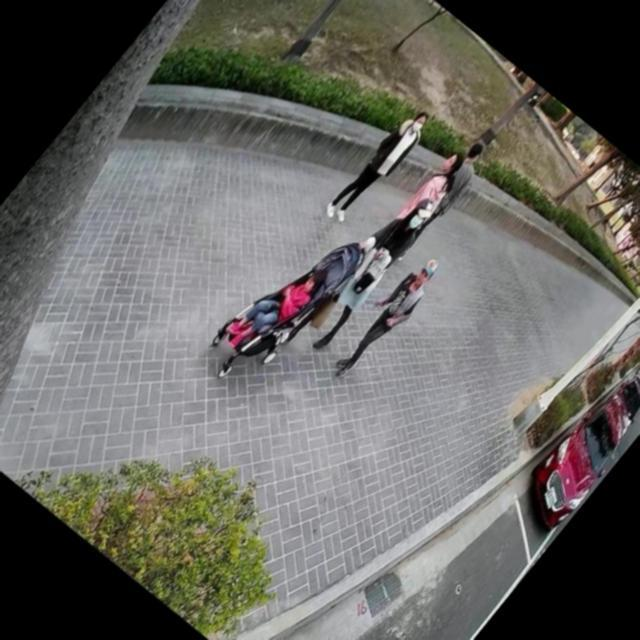person: (288, 178, 446, 358), (320, 242, 453, 392), (321, 98, 439, 232), (218, 238, 336, 368), (384, 135, 498, 266), (393, 140, 479, 237)
